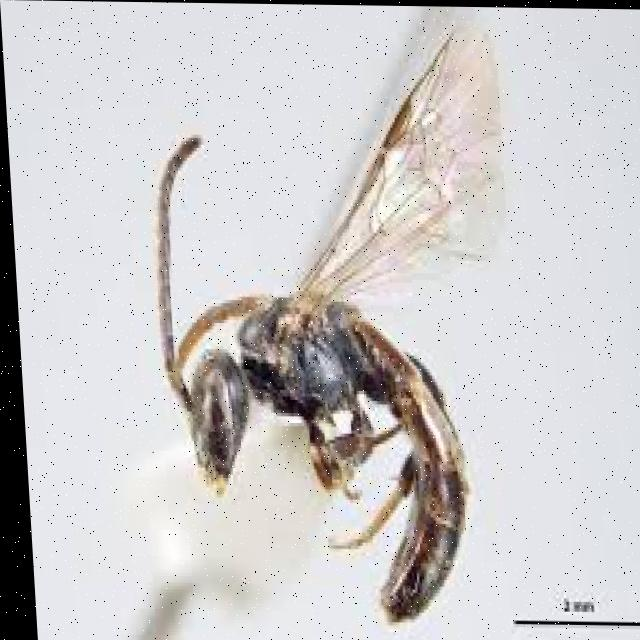Lasioglossum: (123, 18, 533, 621)
